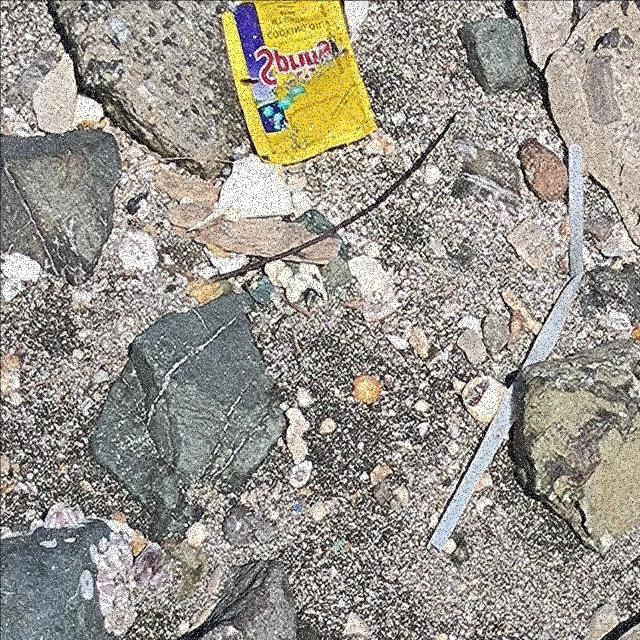plastic_waste: (428, 145, 585, 553), (220, 1, 380, 164)
